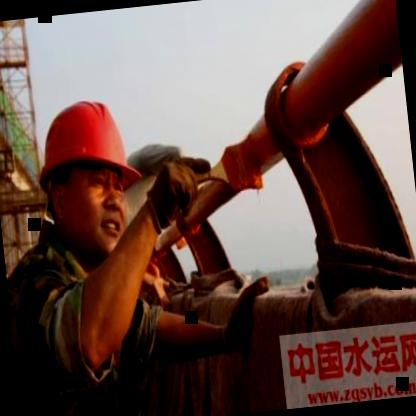helmet: (17, 74, 156, 278)
